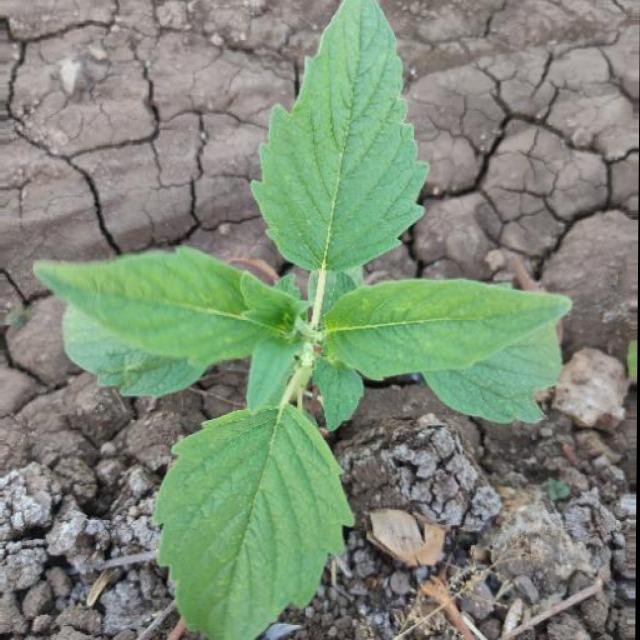crop: (36, 5, 579, 640)
